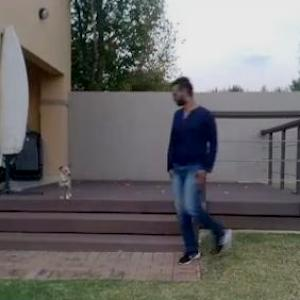follow: (168, 76, 220, 244)
